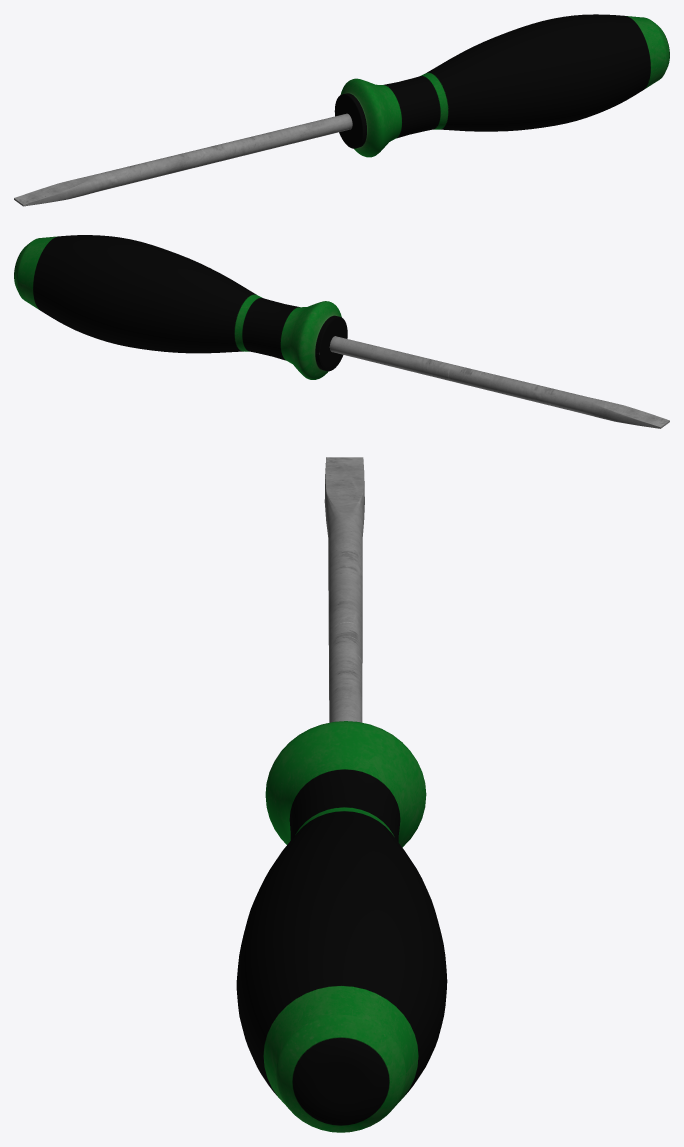
The model's file is screwdriver.glb.
3 renders of one model, top to bottom at view 1: azimuth 30°, elevation 25°; view 2: azimuth 150°, elevation 25°; view 3: azimuth 270°, elevation 25°, orthographic. The views are drawn at different scales.
Visible parts, largest first — view 1: screwdriver; view 2: screwdriver; view 3: screwdriver.
Boxes of the visible parts, box(x1,y1,x2,y2) form: screwdriver: box(14, 14, 669, 206); screwdriver: box(14, 235, 669, 428); screwdriver: box(236, 457, 447, 1132).
Size of the model in its own units: 0.5887 by 0.0836 by 0.0836.
Materials: 1 (1 with a texture image).
